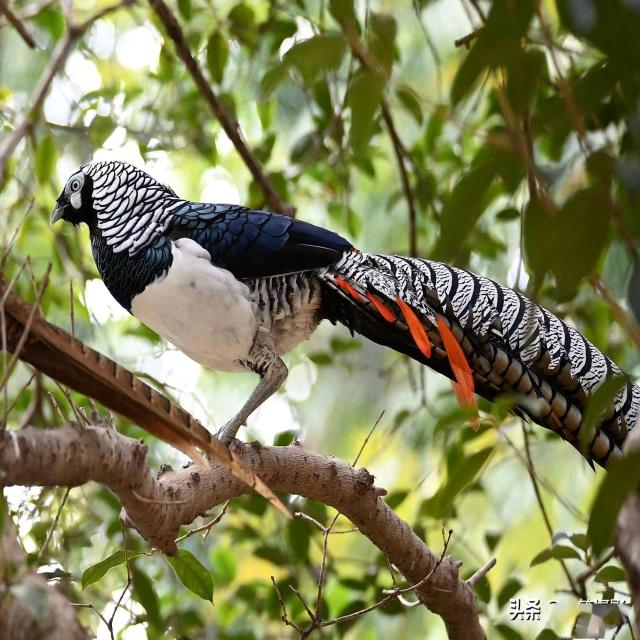Chrysolophus amherstiae: (313, 234, 619, 447), (589, 381, 640, 464)
